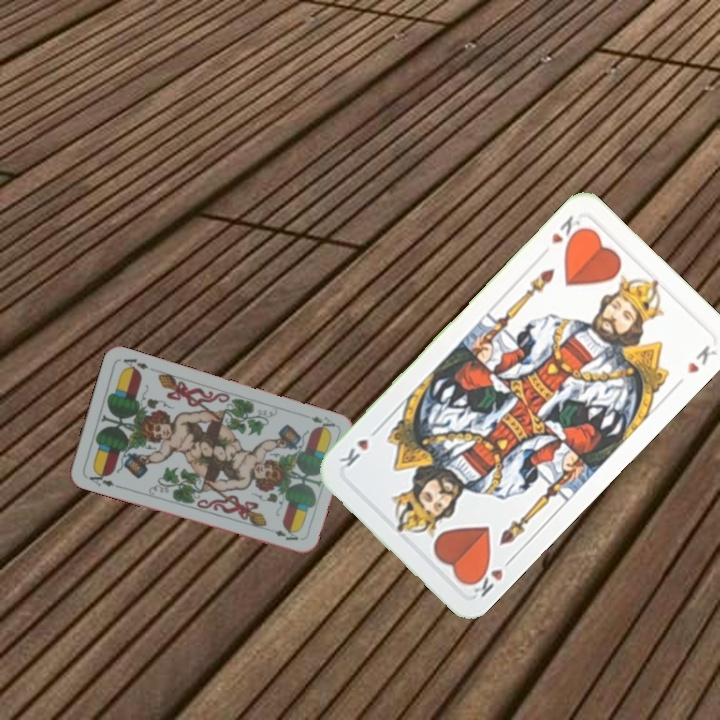EA: (85, 467, 122, 490), (307, 412, 338, 434)
HK: (465, 552, 517, 600), (547, 211, 583, 246)
